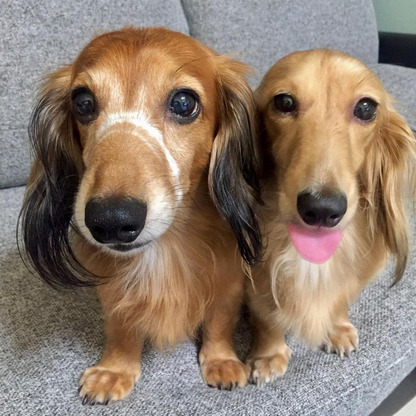dachshund: (33, 48, 235, 373), (253, 47, 408, 387)
